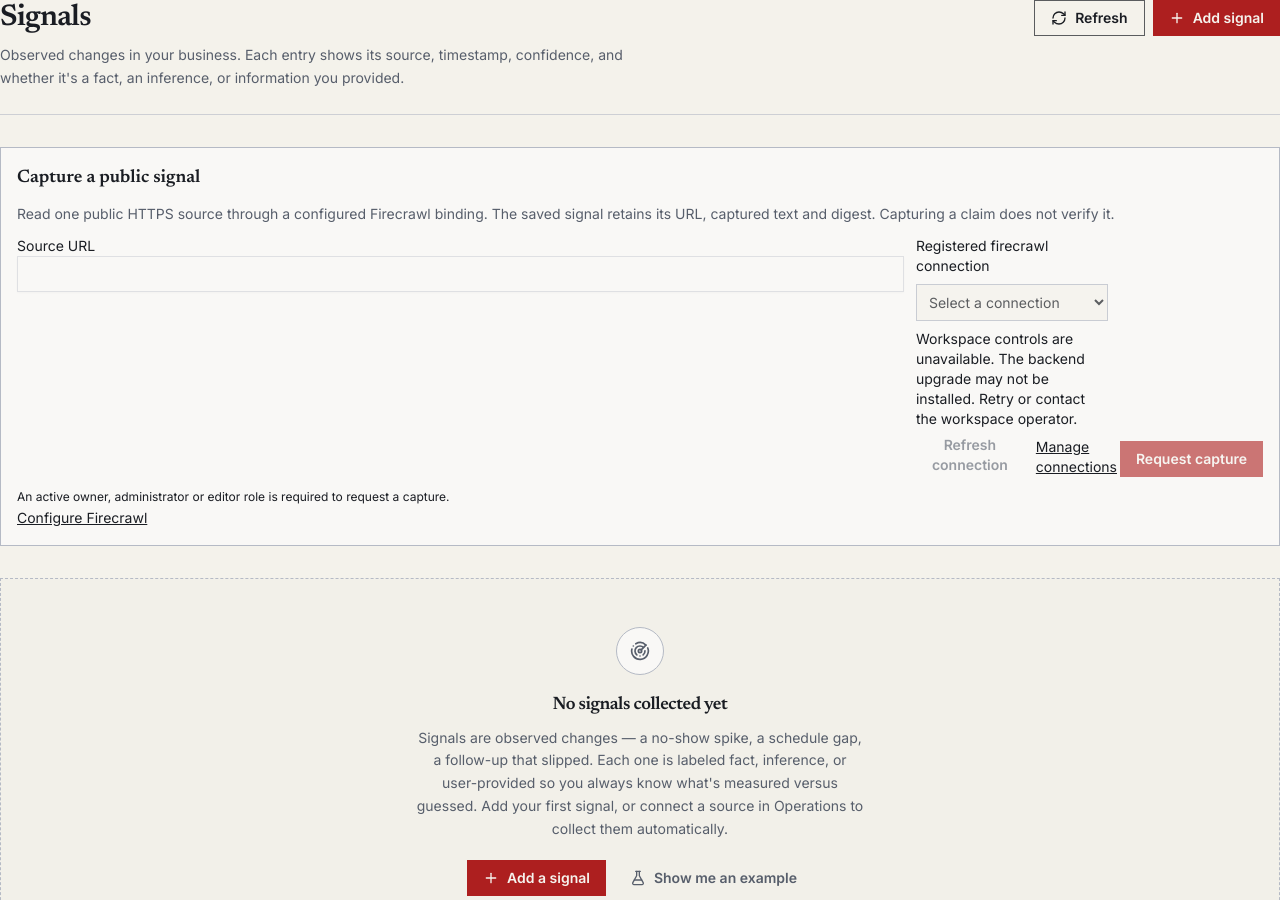
Test case: SignalsPage › refuses to save a signal without a title
Click the button "Add signal" at (1216, 18), box 1153,0 -> 1279,36
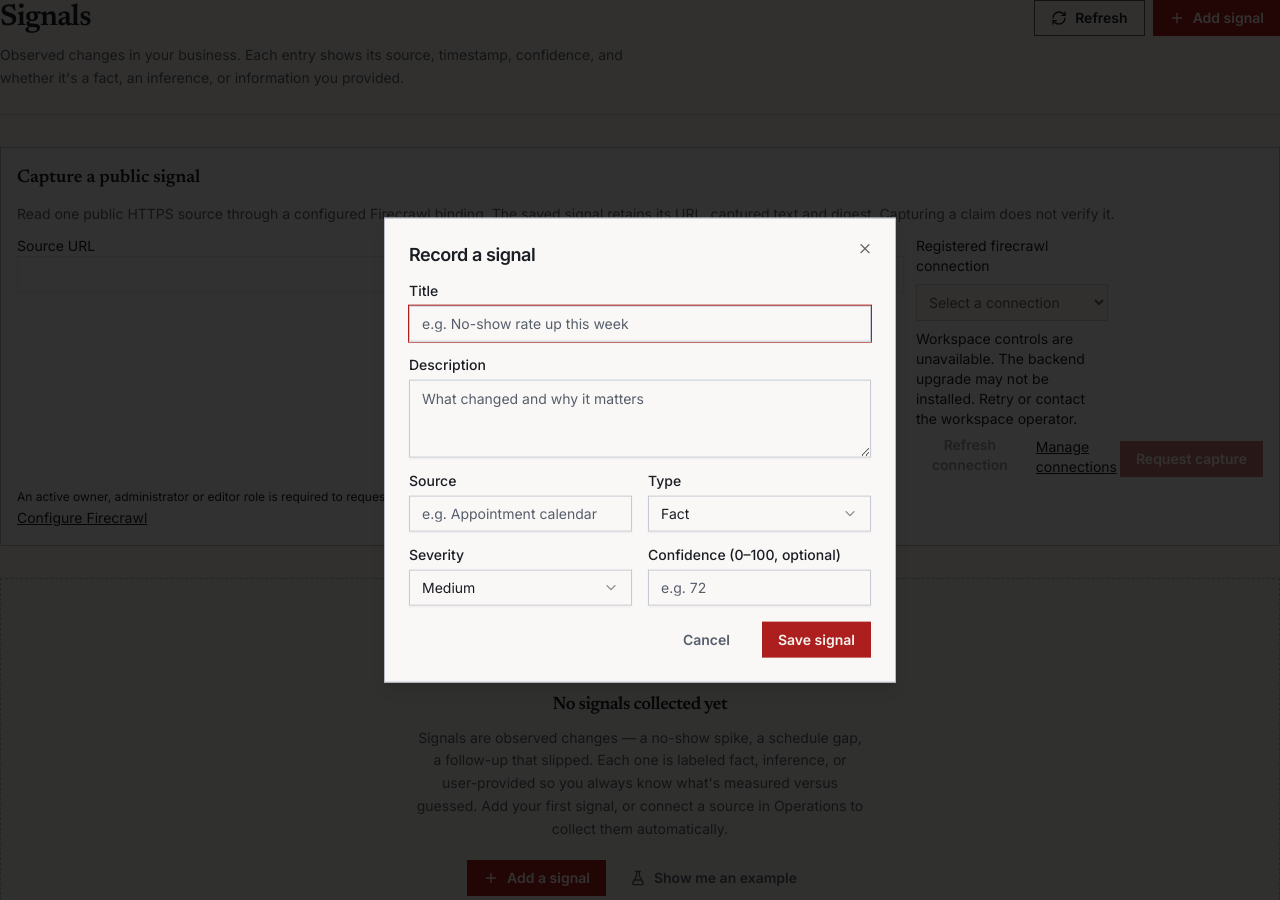
Click the button "Save signal" at (816, 639), box 762,621 -> 871,657
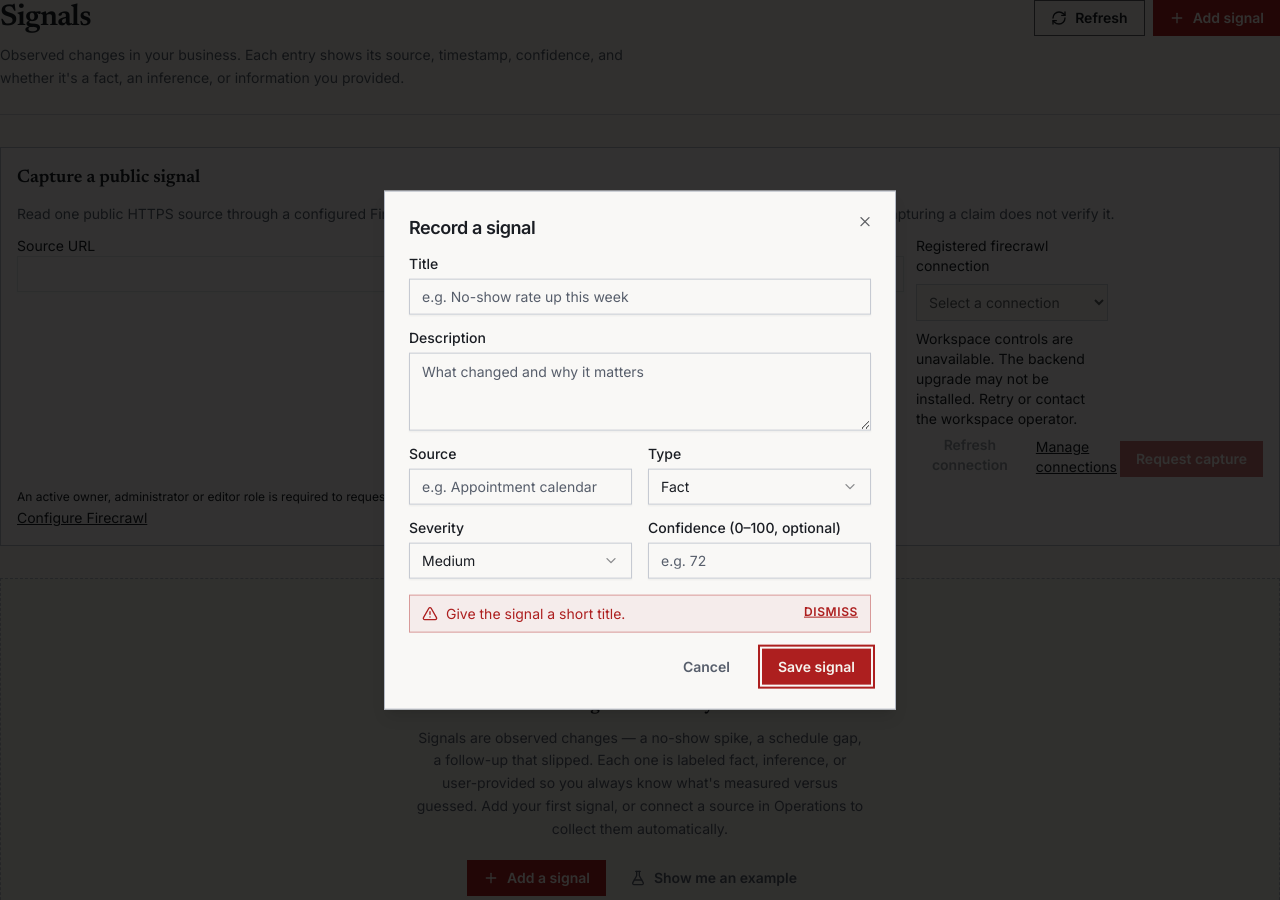
Check: the message shows "Give the signal a short title.", box 446,604 -> 625,621
